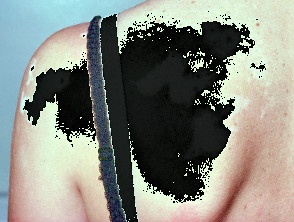vitiligo: (118, 31, 263, 178), (17, 45, 89, 146)
